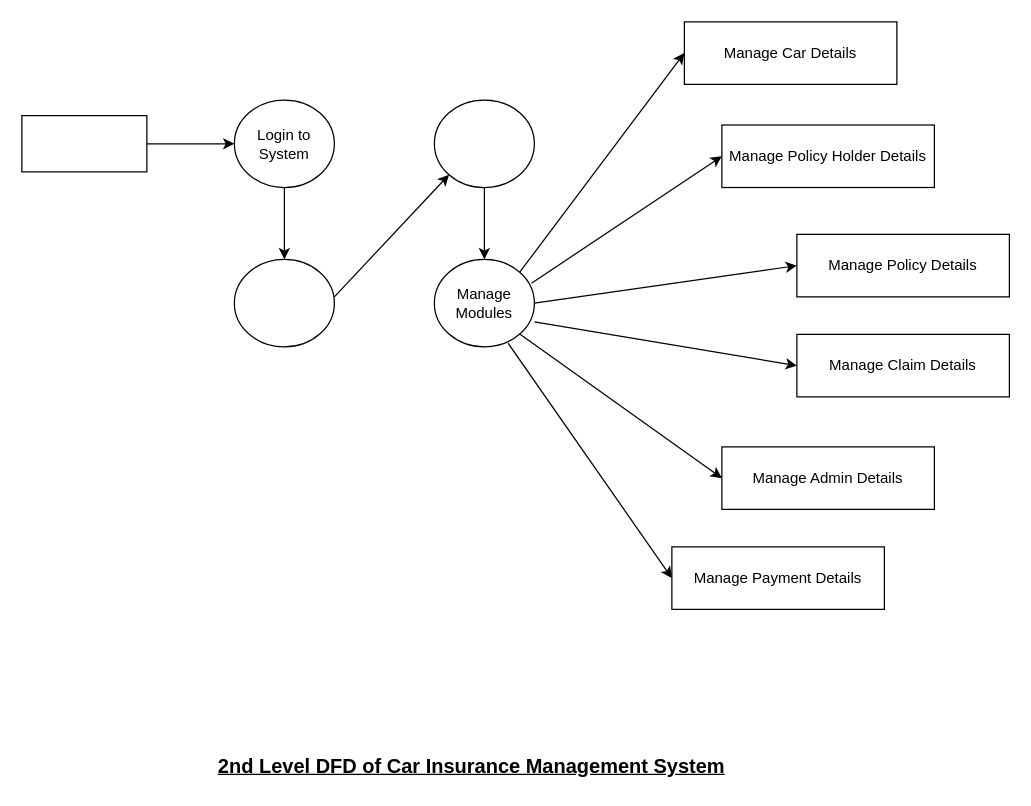
Some shapes in this 1031 by 806 pixel diagram are drawn without their labels. The shapes that lost their labels are listed below. From the top down, each one's centre as x and y in pixels, then its label:
At pixel 84 143: "Admin".
At pixel 483 143: "Check Roles of Access".
At pixel 283 302: "Check Credentials".
